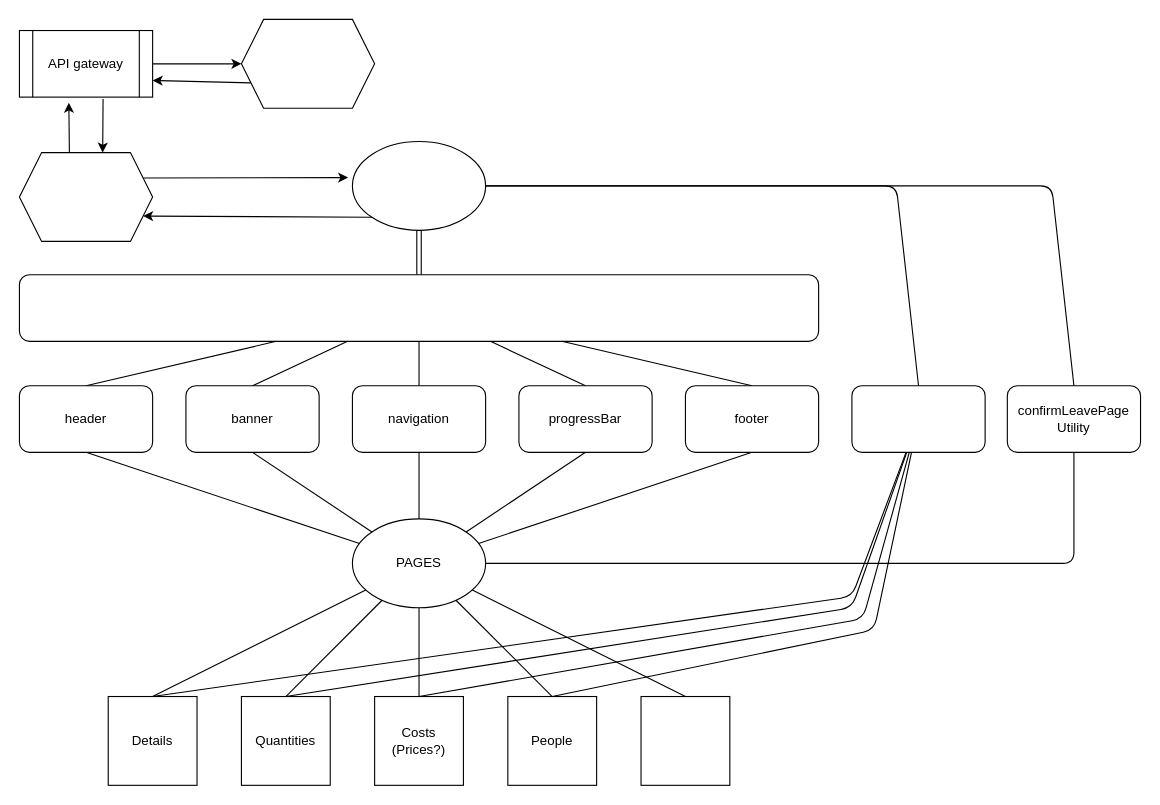
The diagram is 1160 pixels wide and 805 high, and some of its shapes have lost their labels. The shapes that lost their labels are listed below. From the top down, each one's centre as x and y in pixels, then its label:
At point (307, 63): "auth?".
At point (85, 196): "payment item creation ctx/svc".
At point (418, 185): "COMPONENTS".
At point (418, 307): "wrapper".
At point (918, 418): "validationUtility".
At point (685, 740): "Preview".
